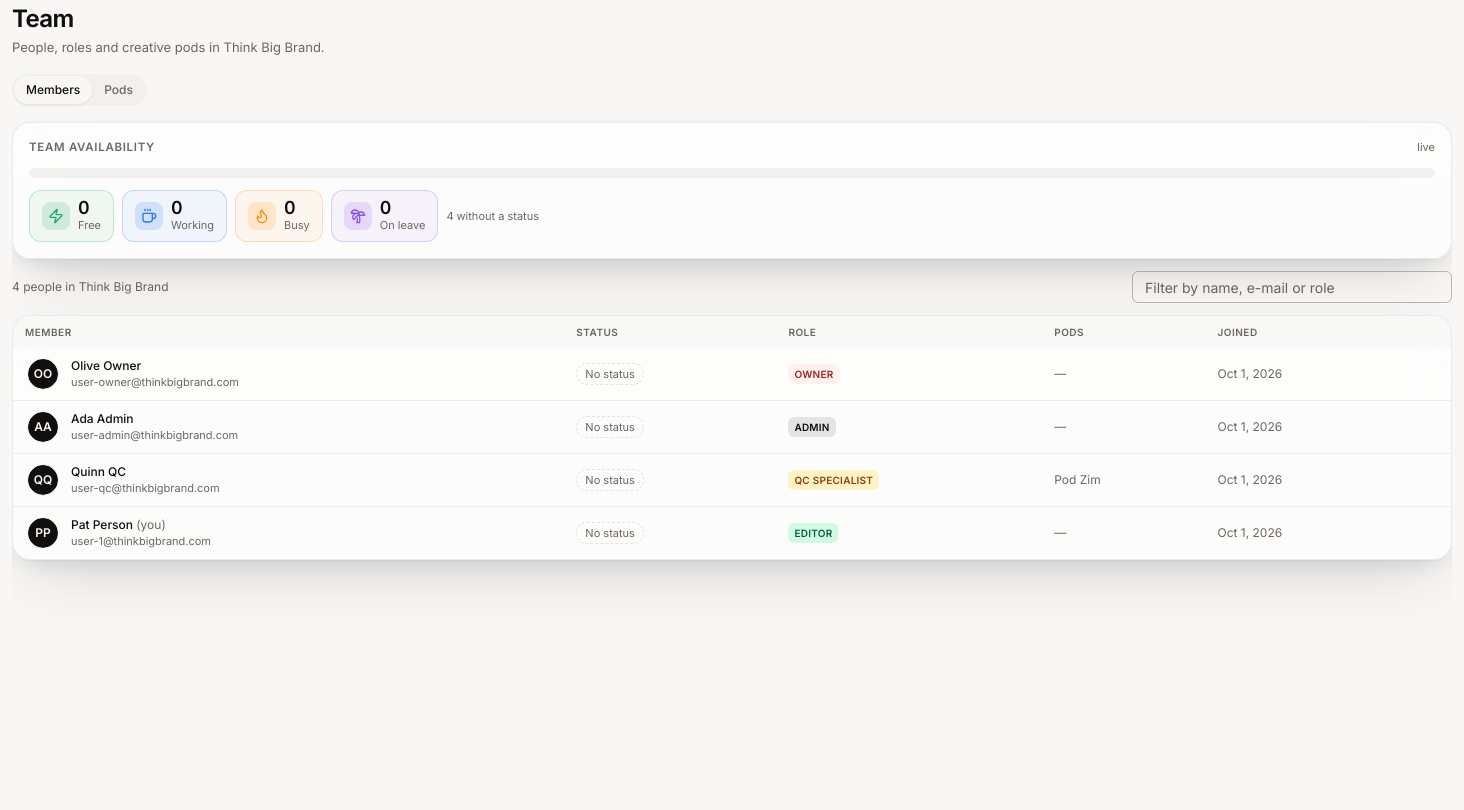
it: Team page: members › filters by name, e-mail or role
Expected: the text "Olive Owner" is shown, [71,358,141,373]
Type "quinn" into the field named "Filter members" at (1292, 287), box [1132,271,1452,303]
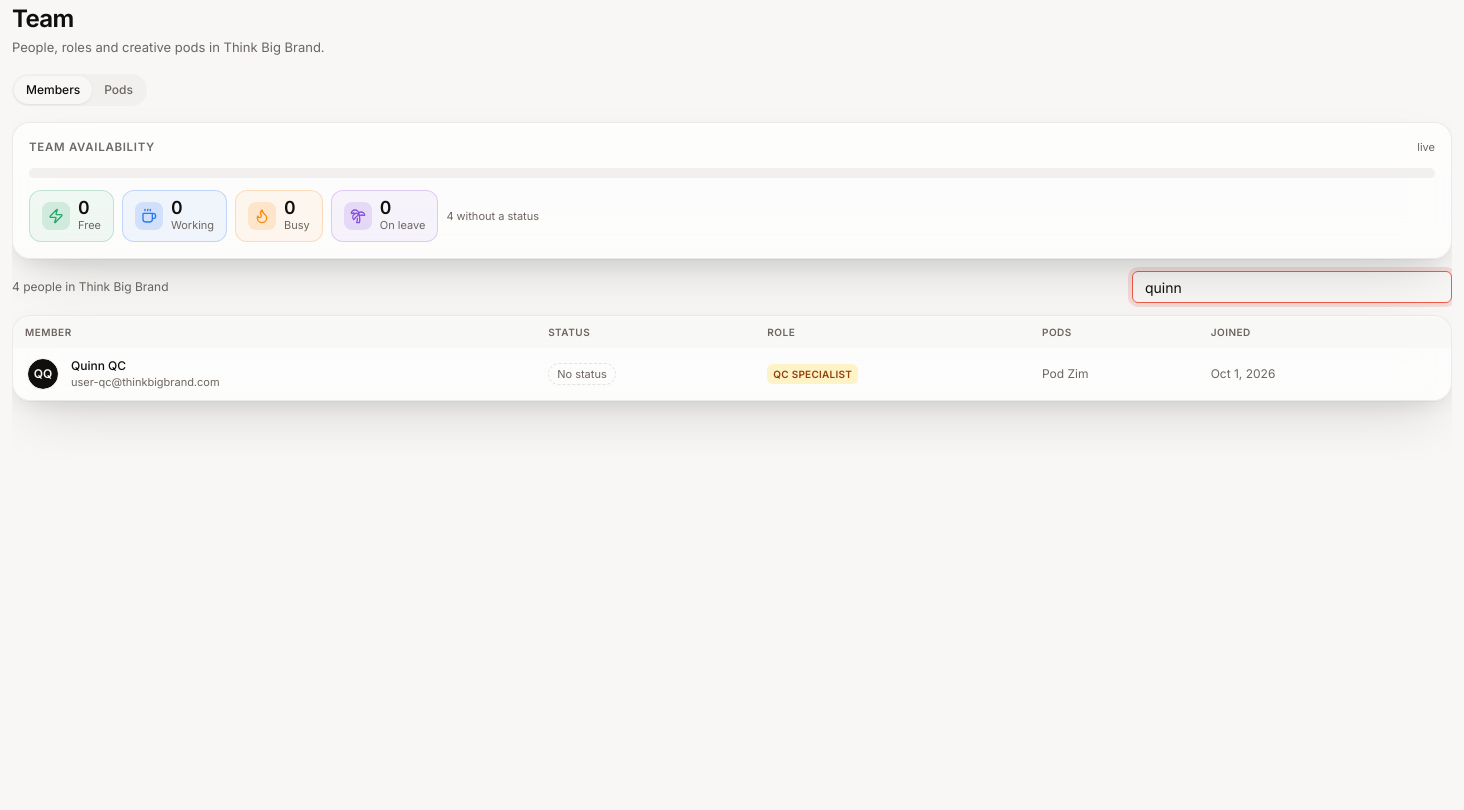
Expected: the text "Quinn QC" is shown, [71,358,126,373]
Now the text "Olive Owner" is gone
Replace the text in the field named "Filter members" with "zzz-nobody" at (1292, 287), box [1132,271,1452,303]
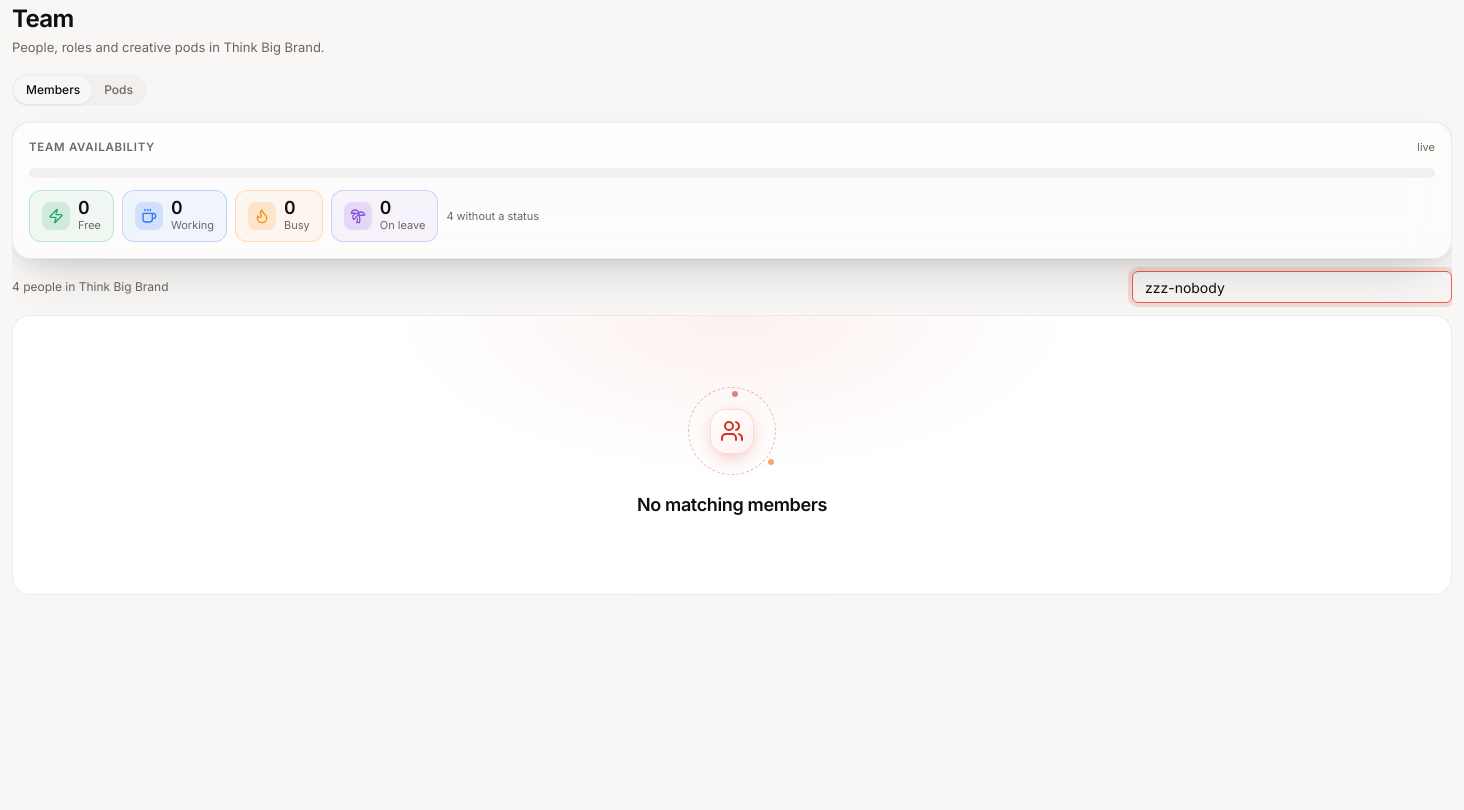
Now the heading "No matching members" is shown, box [637,491,827,519]
